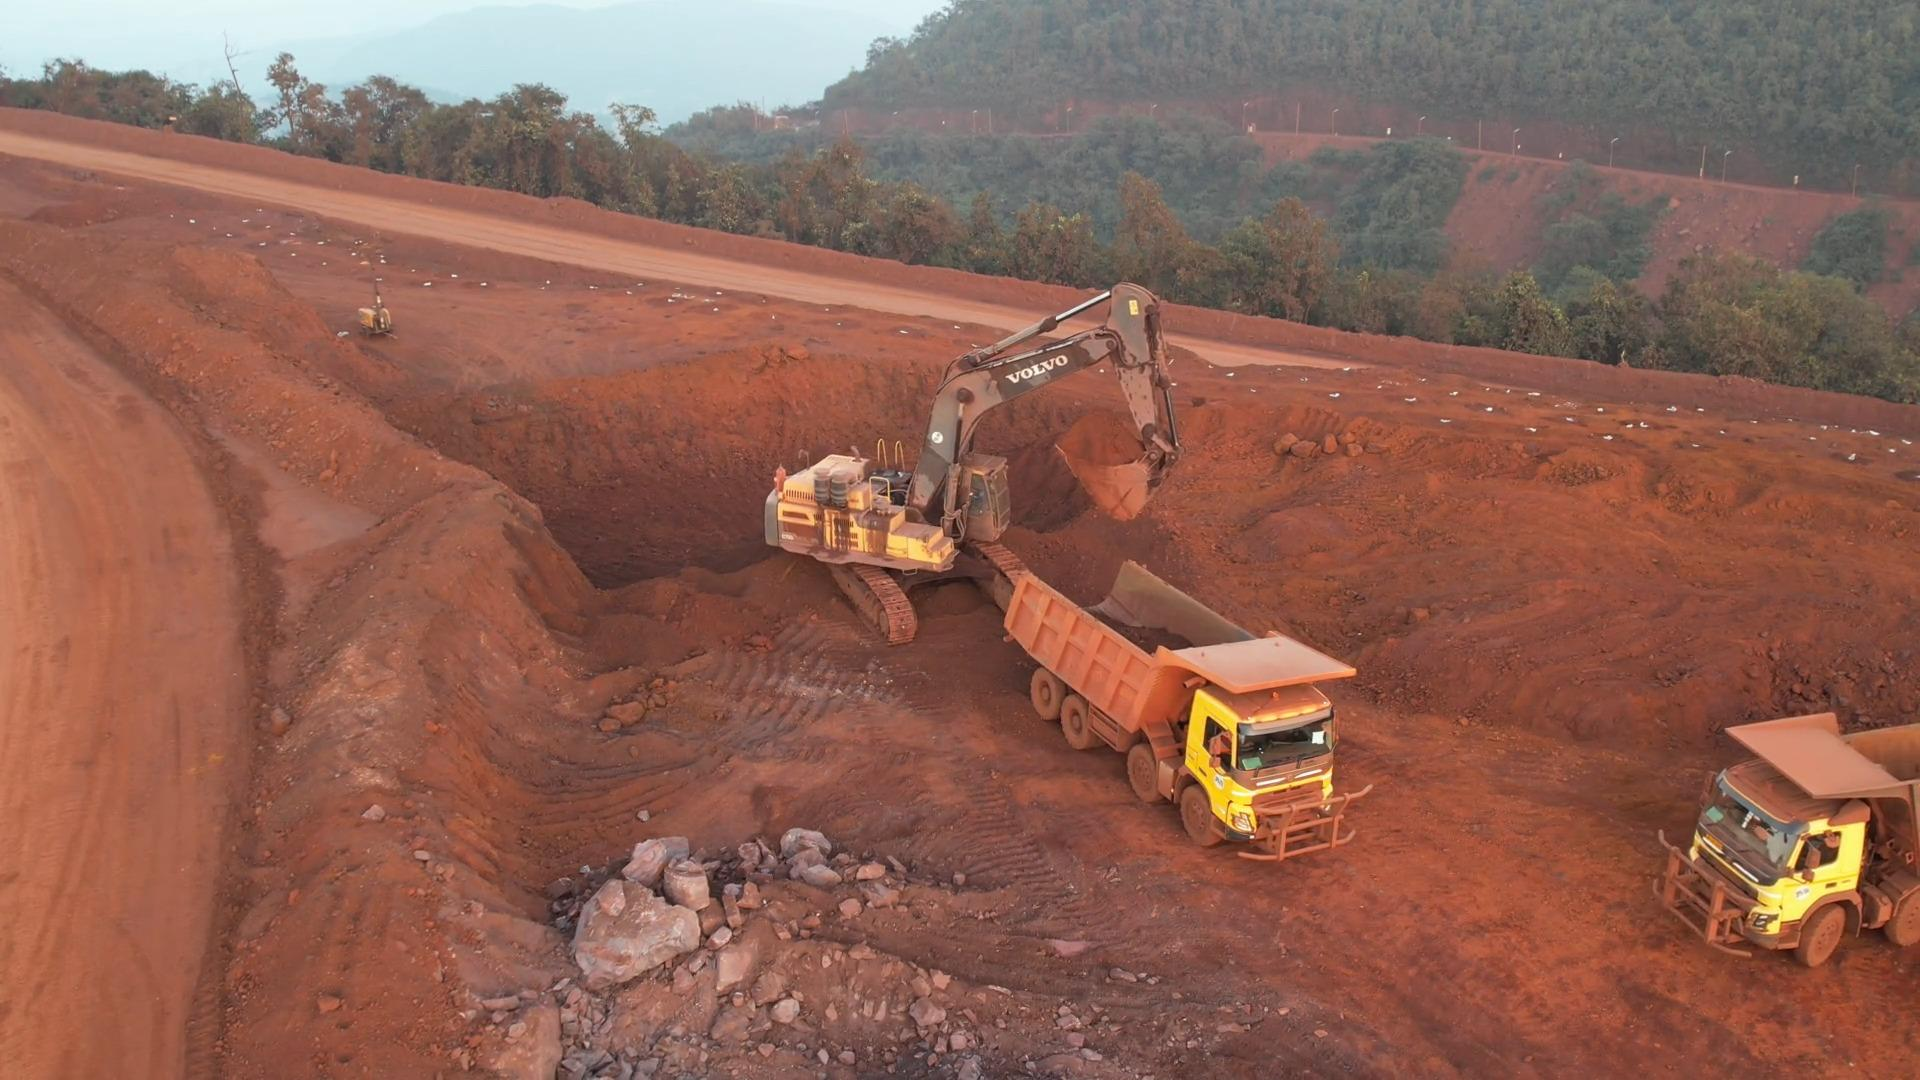excavator: (786, 278, 1183, 584)
